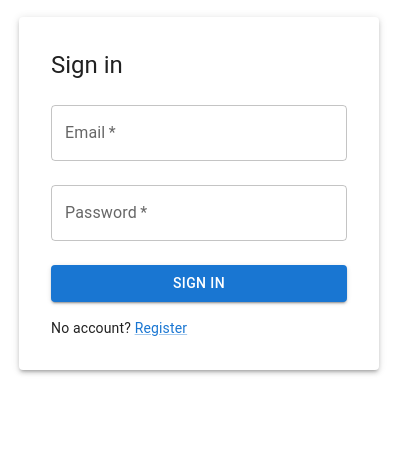
Test: LoginPage › shows an error message when login fails
This screenshot has width=399, height=456.
Type "sri@example.com" into the field labelled "Email *" at (199, 133), box [51,105,347,161]
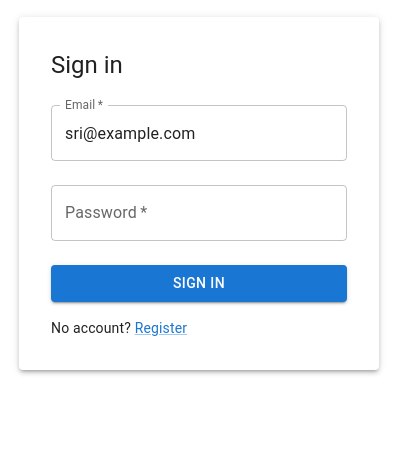
Type "wrong" into the password field labelled "Password *" at (199, 213), box [51,185,347,241]
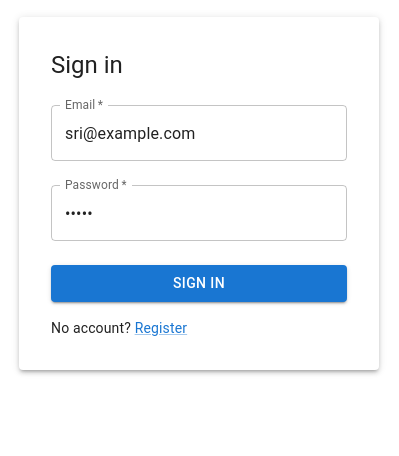
Click the button "Sign in" at (199, 284), box [51,265,347,302]
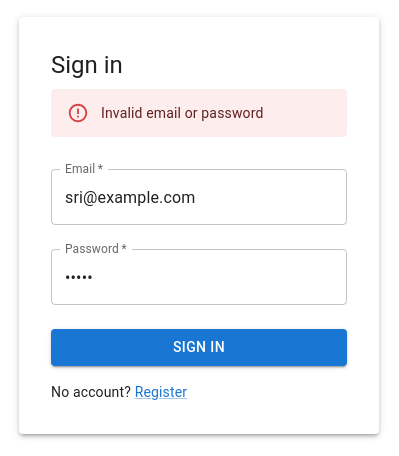
Expected: the text "Invalid email or password" is shown, [101,105,264,121]
